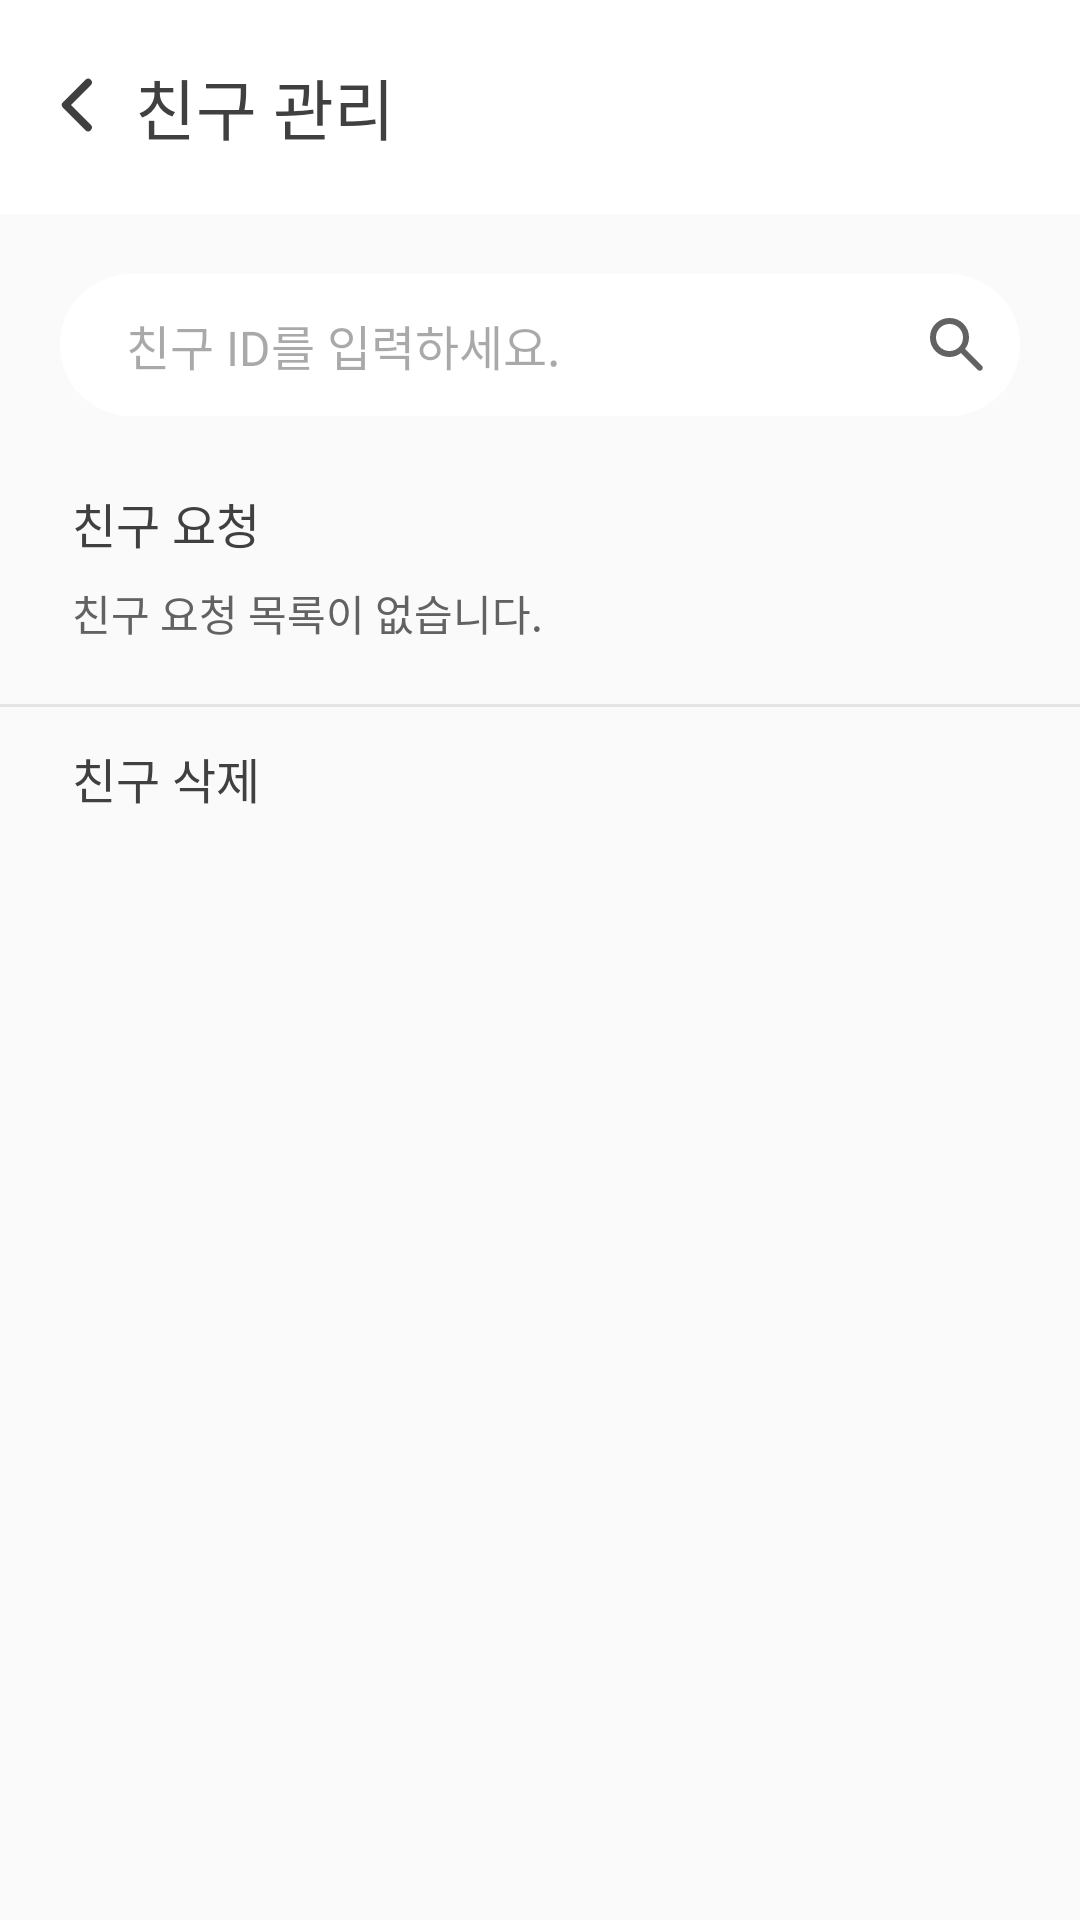

Screen size 1080 × 1920. Icon name, then its center in pixels as (x,y):
back: (76,105)
search: (956,344)
